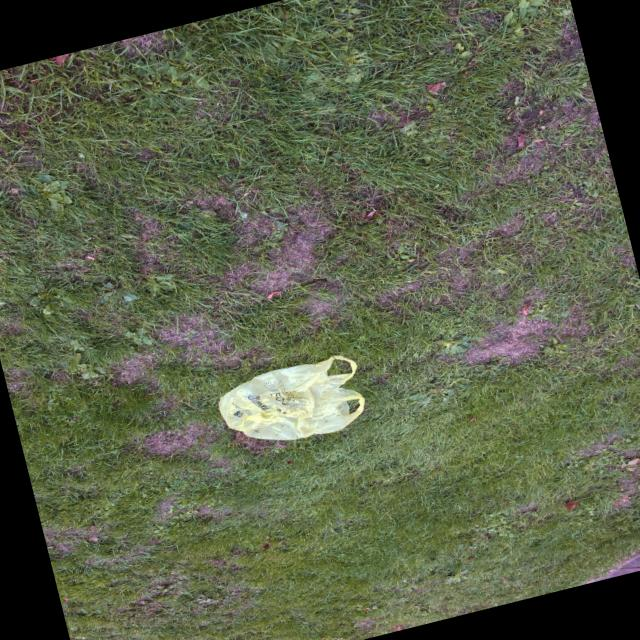less trash: (218, 354, 365, 440)
